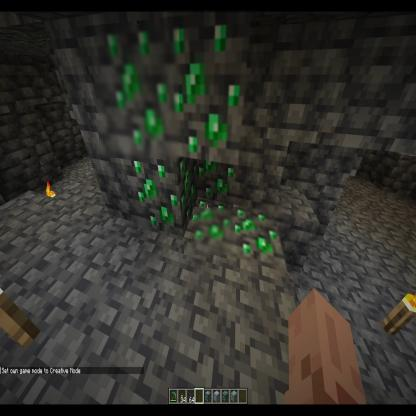emerald ore: (165, 10, 259, 162), (99, 24, 179, 158), (142, 158, 194, 244), (229, 202, 289, 266), (184, 199, 235, 255), (191, 157, 238, 208)
